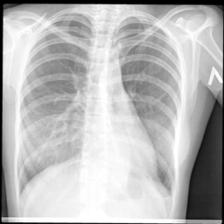tuberculosis: (13, 9, 182, 202)
